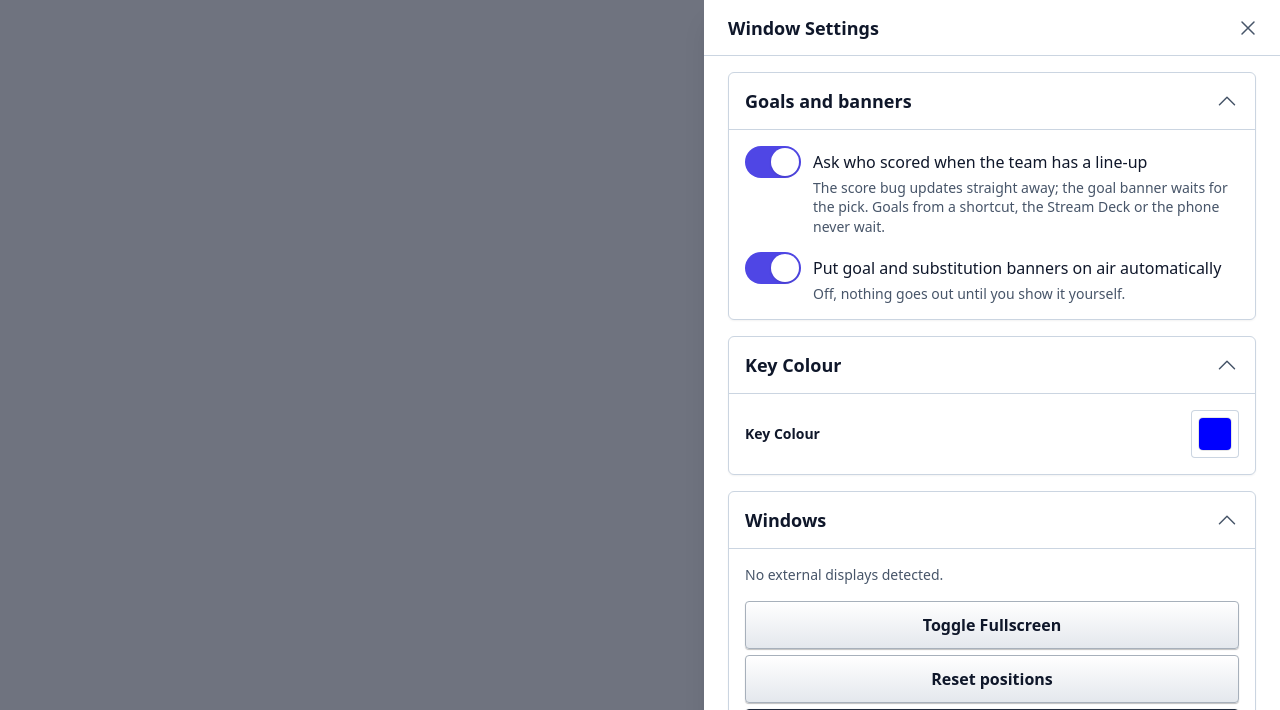
Test: AppSettingsMenu window controls › toggles fullscreen, resets positions, and locks/unlocks windows
This screenshot has width=1280, height=710.
Click the button "Toggle Fullscreen". click: (992, 625)
box: [745, 601, 1239, 649]
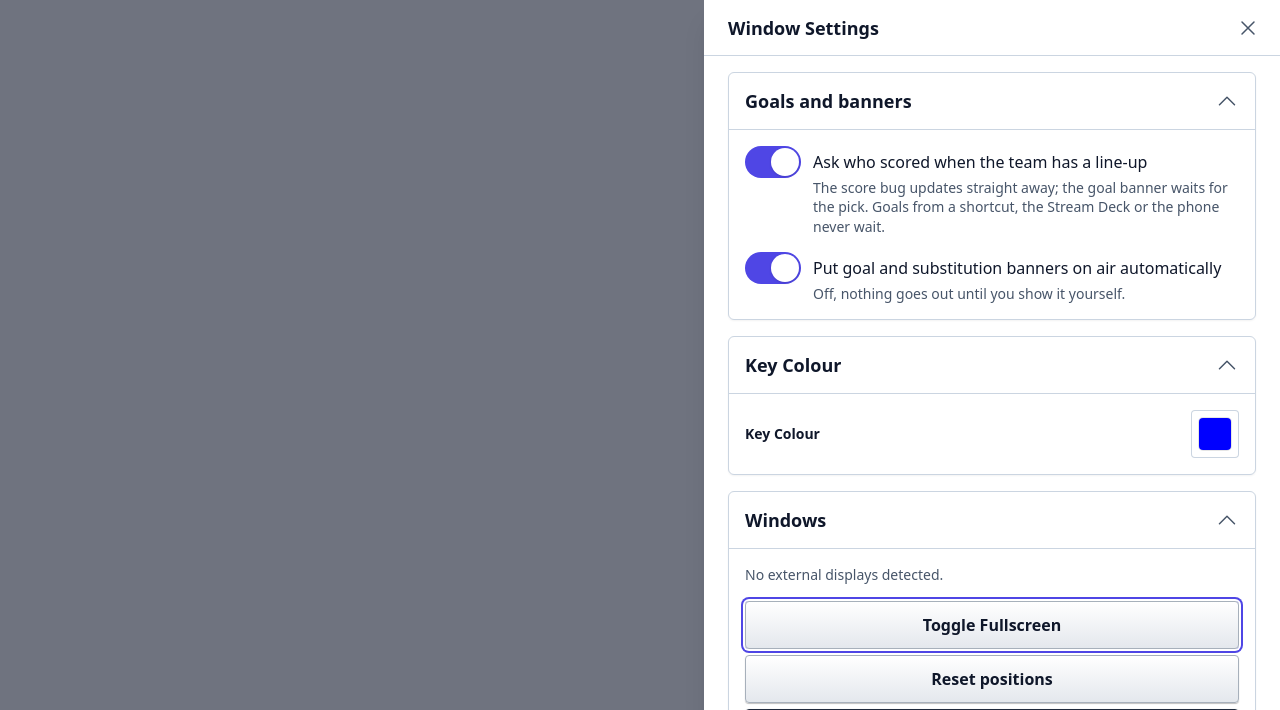
Click the button "Reset positions". click: (992, 679)
box: [745, 655, 1239, 703]
(page scrolled)
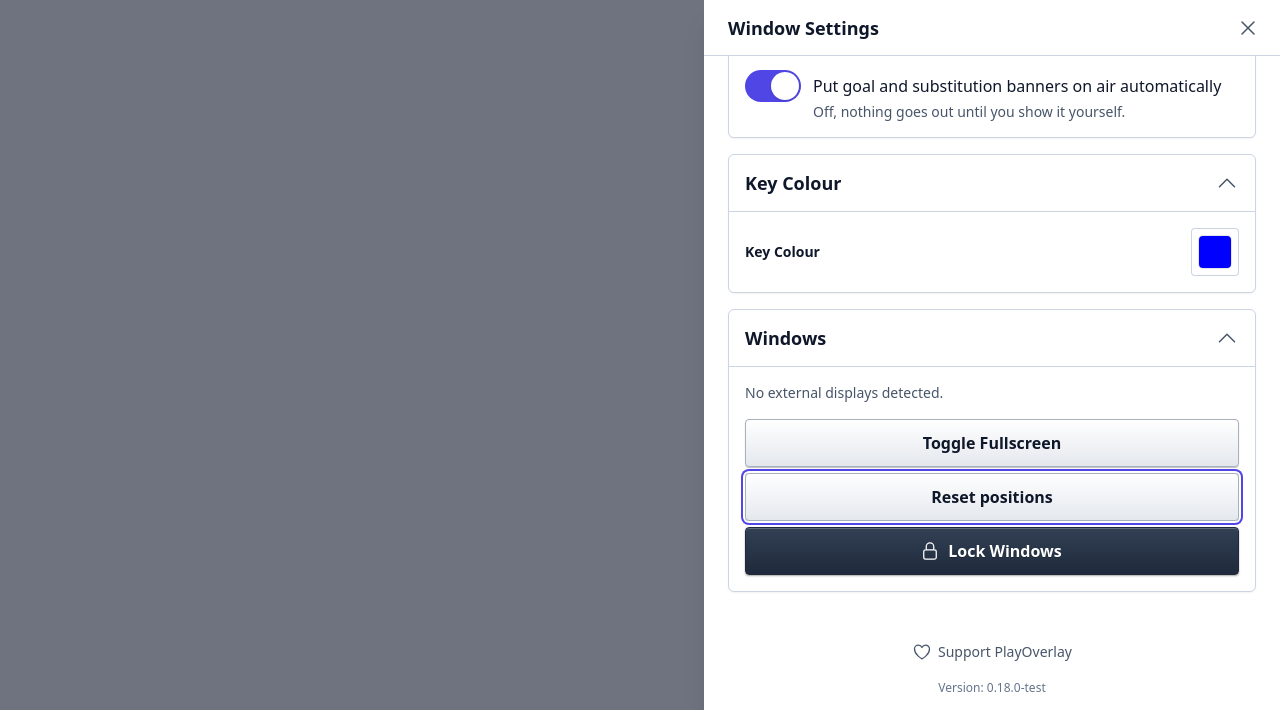
Click the button "Lock Windows". click: (992, 551)
box: [745, 527, 1239, 575]
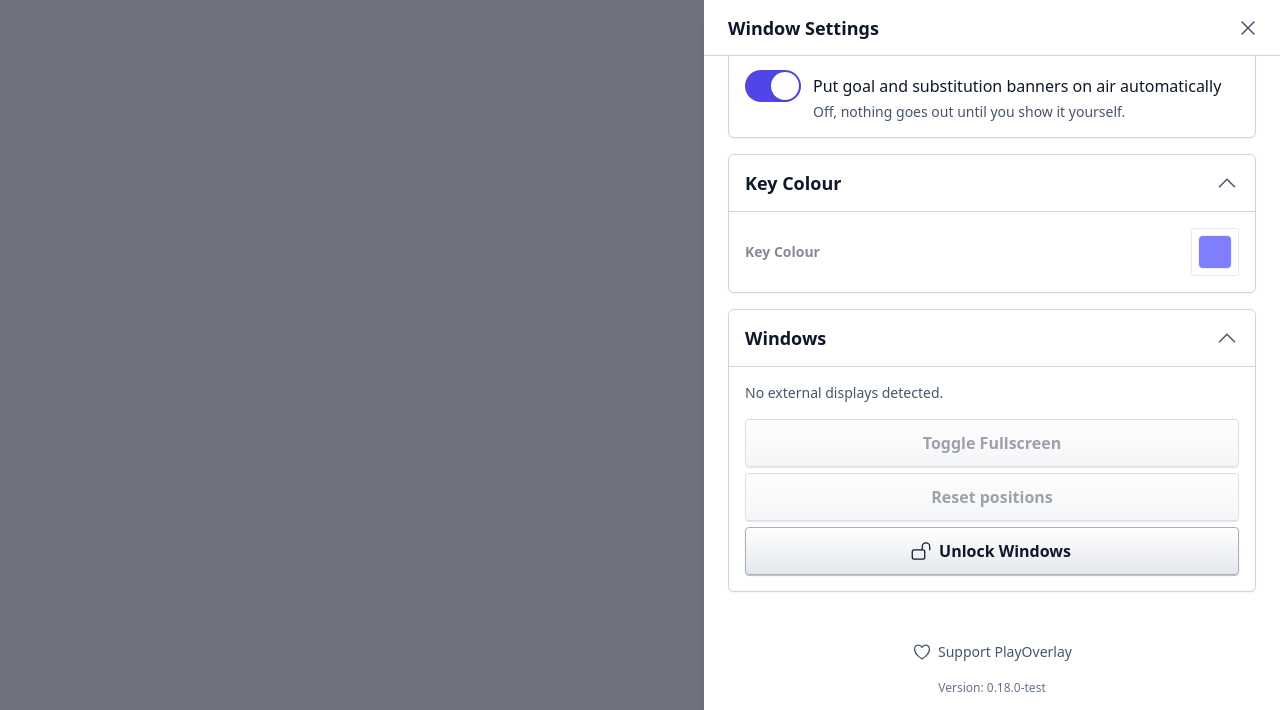
Now the button "Unlock Windows" is shown, box [745, 527, 1239, 575]
